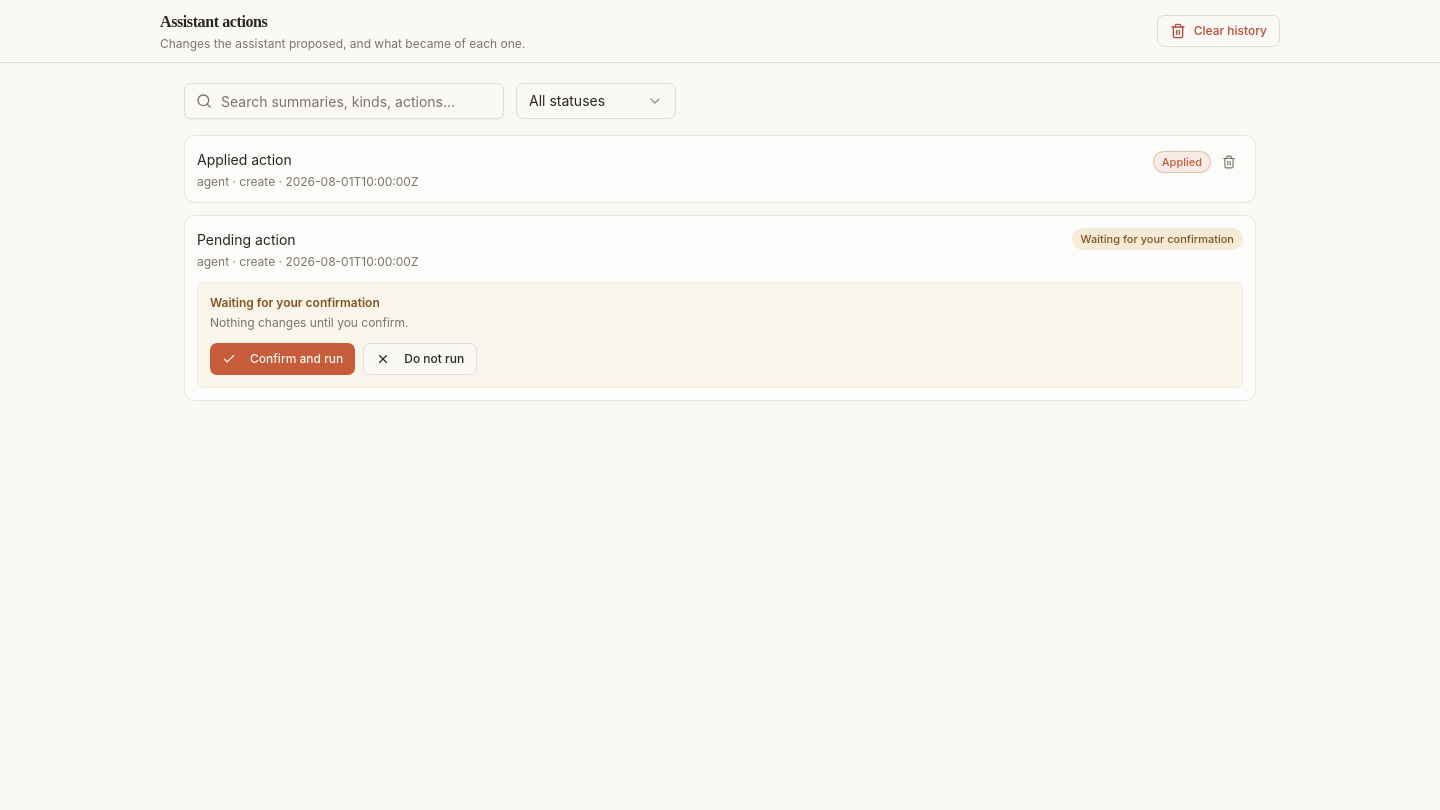
Test case: AppActionsPage › clears resolved history in one confirmed action
Expected: the text "Applied action" is shown, 197,151 -> 292,168
Click the button "Clear history". click: (1218, 31)
box: 1157,15 -> 1280,47
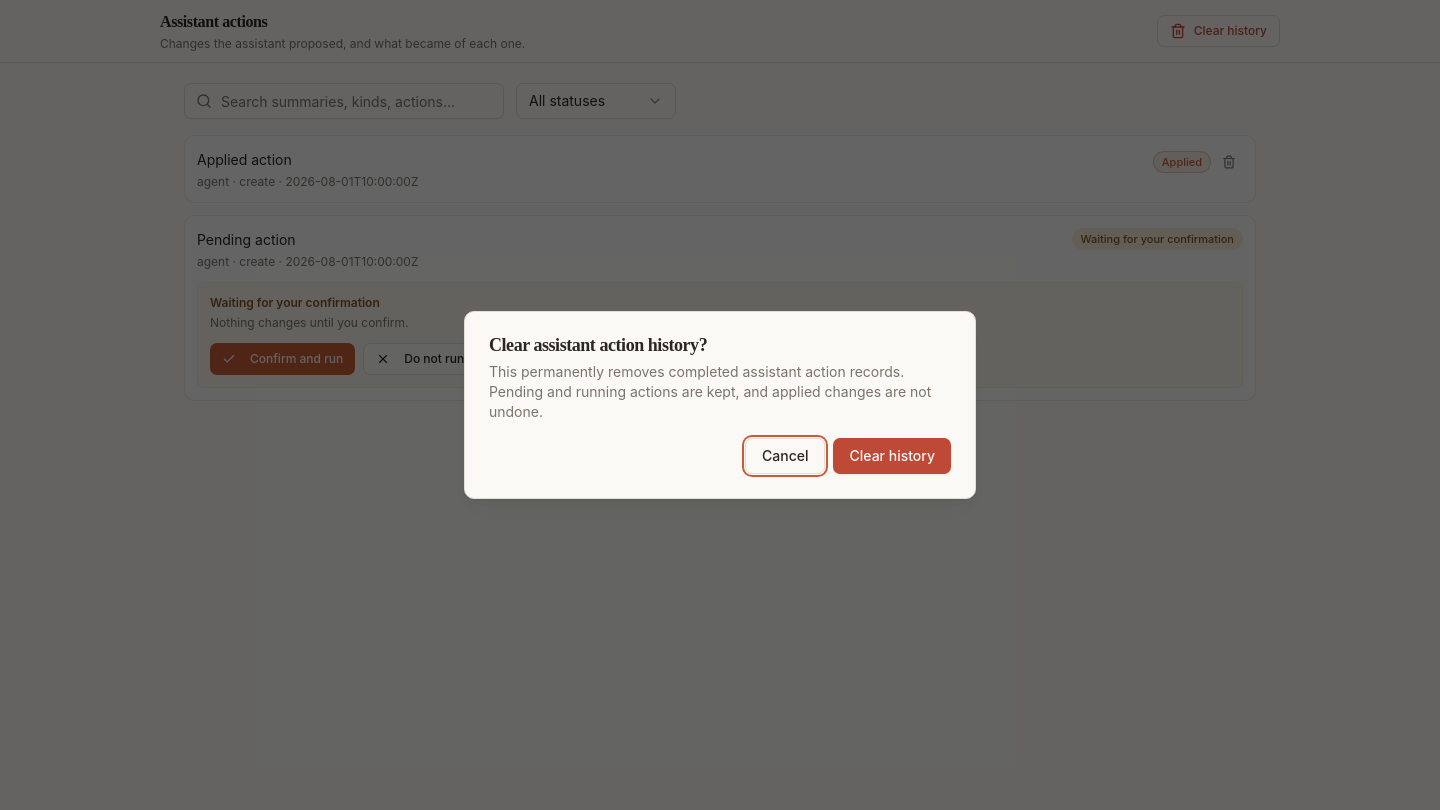
Click the button "Clear history". click: (892, 456)
box: 834,438 -> 951,474
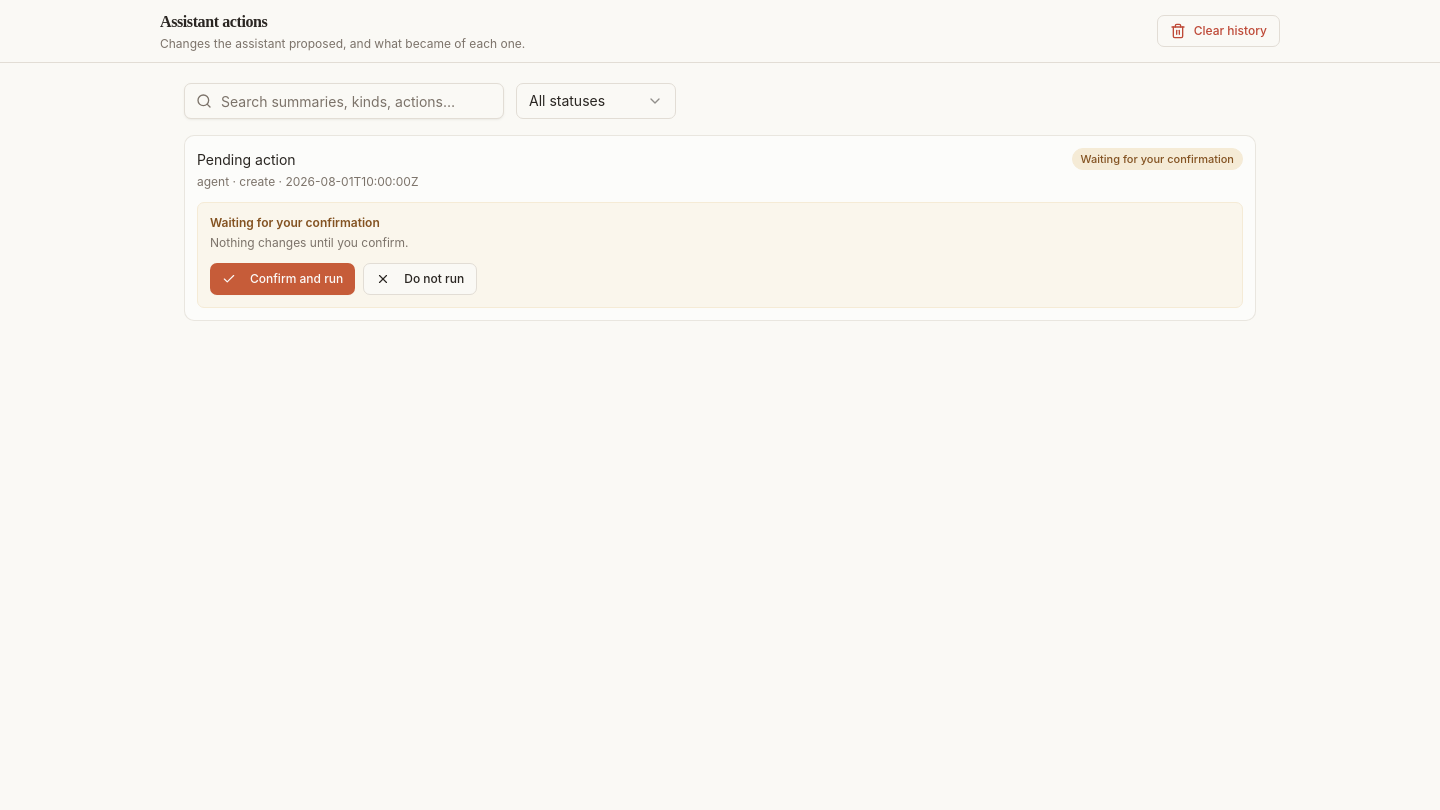
Expected: the text "Pending action" is shown, 197,151 -> 296,168
Result: the text "Applied action" is gone
